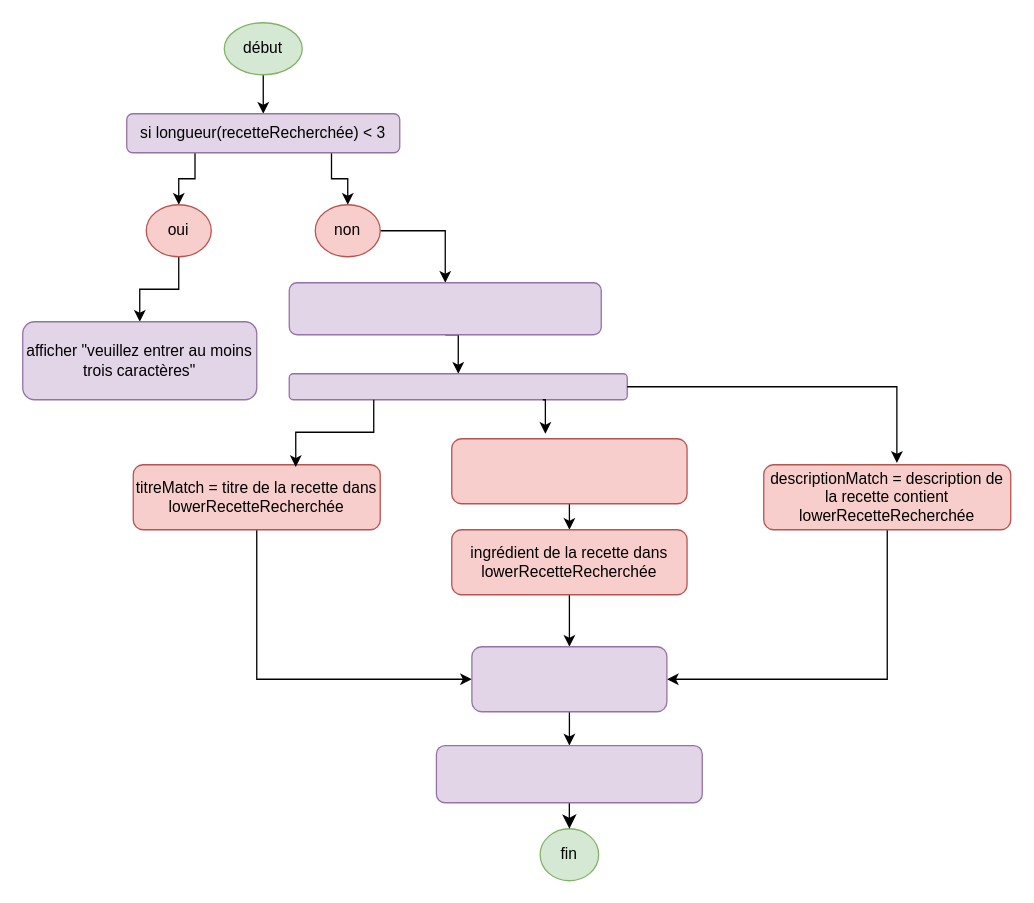
Image size: 1034x903. Some labels were removed from this diagram. The shapes that lost their labels are listed below. From the top down, each one's centre as x and y in pixels, then its label:
At (444,308): "lowerRecetteRecherchée = convertir(recetteRecherchée en minuscules)".
At (457,386): "recipesFiltrés = filter(recipes, fonction(recipe)".
At (568,470): "ingredientMatch = some(ingrédients de la recette, fonction(ingrédient)".
At (569,678): "ajouter recette à recipesFiltrés".
At (568,773): "retourner recipesFiltrés".
